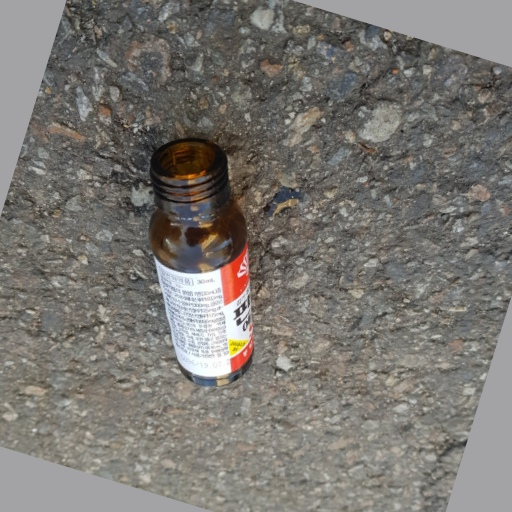Glass_3: (146, 136, 259, 388)
